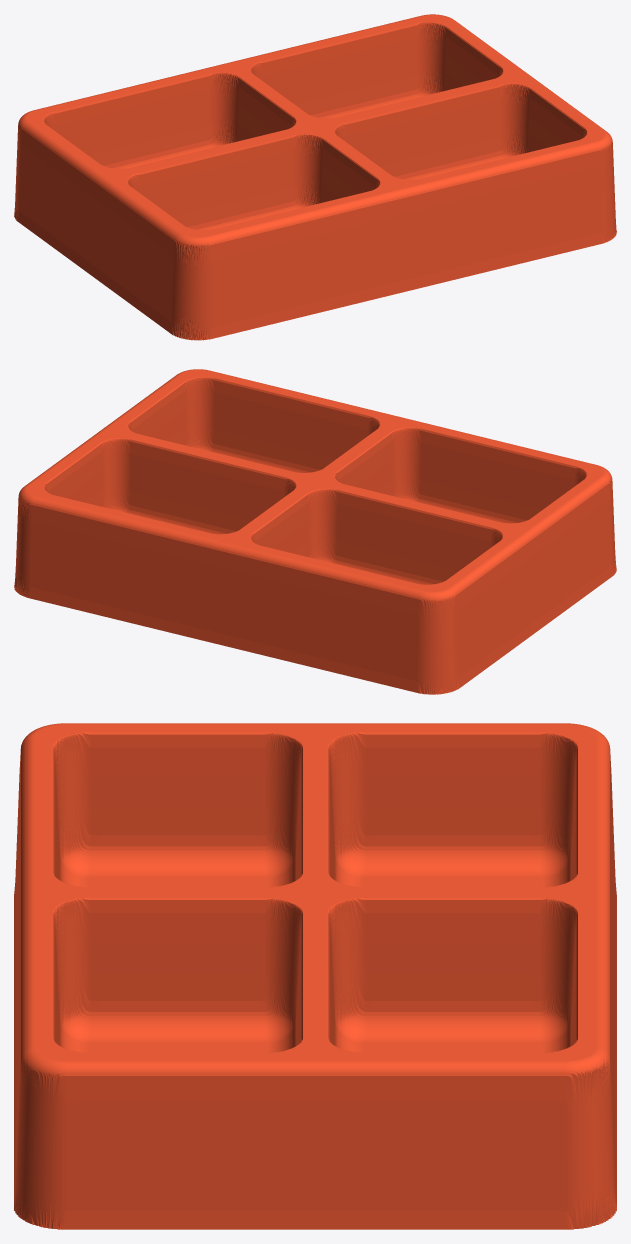
The model's file is mold.glb.
The picture shows the model from 3 angles, top to bottom: view 1: azimuth 30°, elevation 25°; view 2: azimuth 150°, elevation 25°; view 3: azimuth 270°, elevation 25°; orthographic projection. The views are drawn at different scales.
Visible parts, largest first — view 1: geometry_0; view 2: geometry_0; view 3: geometry_0.
Part boxes in pixels (x1=…): geometry_0: x1=14, y1=14, x2=616, y2=340; geometry_0: x1=14, y1=369, x2=616, y2=694; geometry_0: x1=14, y1=723, x2=616, y2=1229.
Size of the model in its own units: 0.1466 by 0.031 by 0.1057.
